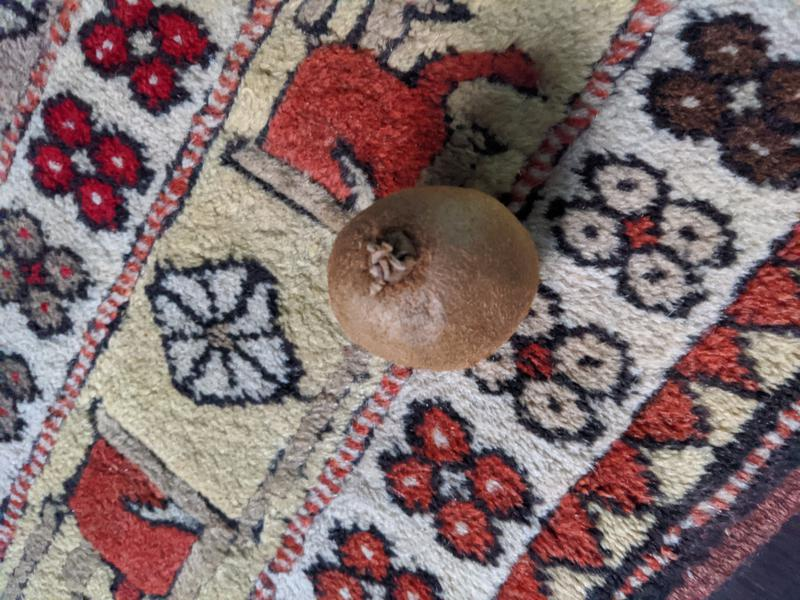kiwi: (327, 184, 542, 371)
